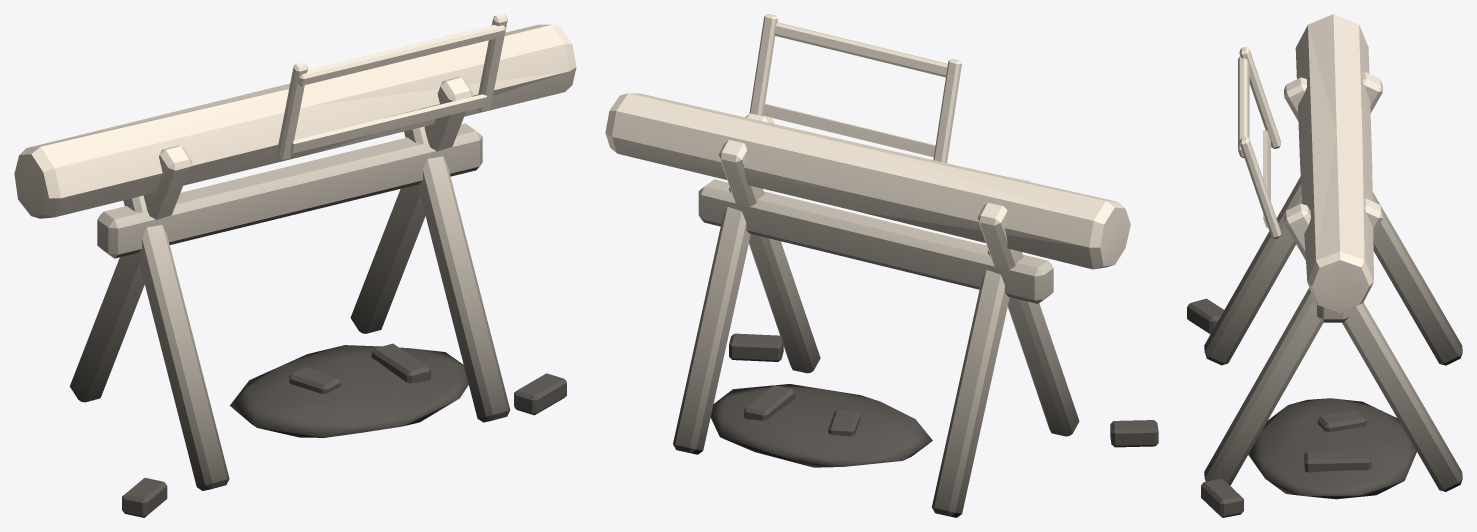
Rendered from SM_VK_Prop_Sawhorse.fbx.
3 views of the same model, side by side, from view 1: azimuth 30°, elevation 25°; view 2: azimuth 150°, elevation 25°; view 3: azimuth 270°, elevation 25° (orthographic). The views are drawn at different scales.
Visible parts, largest first — view 1: SM_VK_Prop_Sawhorse.001; view 2: SM_VK_Prop_Sawhorse.001; view 3: SM_VK_Prop_Sawhorse.001.
Part boxes in pixels (x1,y1,x2,y2): SM_VK_Prop_Sawhorse.001: (14,14,576,517); SM_VK_Prop_Sawhorse.001: (605,14,1158,517); SM_VK_Prop_Sawhorse.001: (1187,14,1462,517).
Size of the model in its own units: 1.71 by 1.22 by 0.8302.
